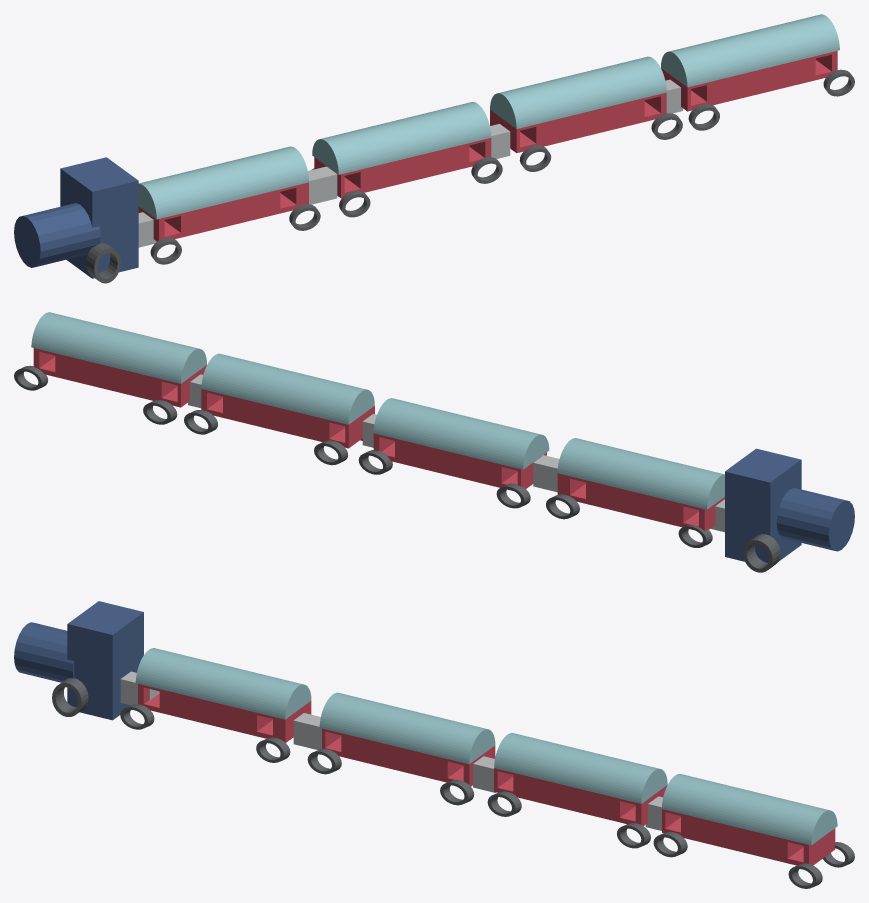
File: PRO 150.glb
The picture shows the model from 3 angles, top to bottom: view 1: azimuth 30°, elevation 25°; view 2: azimuth 150°, elevation 25°; view 3: azimuth 330°, elevation 25°; orthographic projection.
Visible parts, largest first — view 1: Mesh_Mesh_head_geo.001_lambert2SG.001; view 2: Mesh_Mesh_head_geo.001_lambert2SG.001; view 3: Mesh_Mesh_head_geo.001_lambert2SG.001.
Boxes of the visible parts, left/top/right/bottom form: Mesh_Mesh_head_geo.001_lambert2SG.001: left=14, top=14, right=854, bottom=283; Mesh_Mesh_head_geo.001_lambert2SG.001: left=14, top=312, right=854, bottom=572; Mesh_Mesh_head_geo.001_lambert2SG.001: left=14, top=601, right=854, bottom=888.
Bounding box in the file's own units: 355 × 36 × 37.7.
